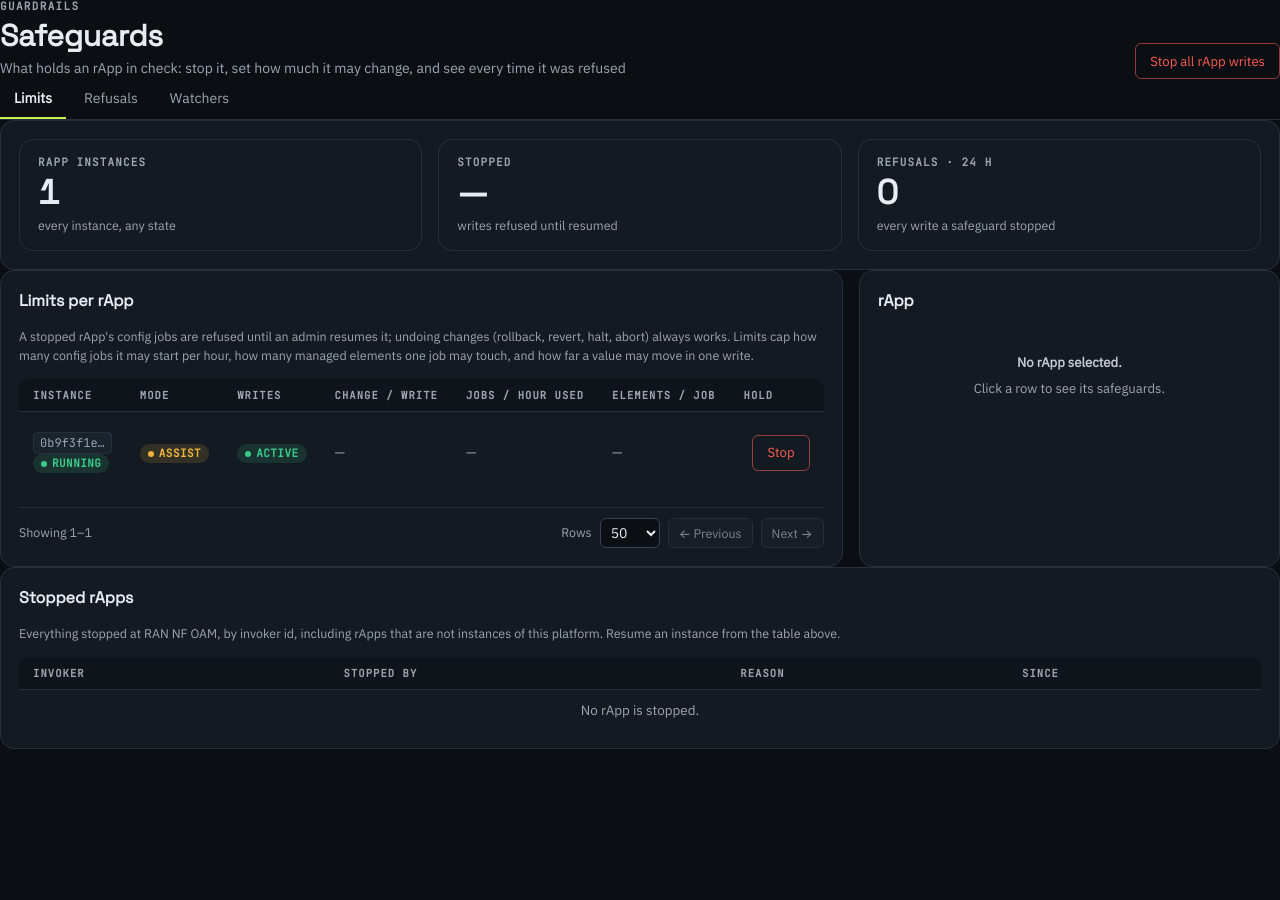
Test: stopping every rApp at once › cancelling the confirm stops nothing
Click the button "Stop all rApp writes" at (1208, 61), box [1135,43,1279,79]
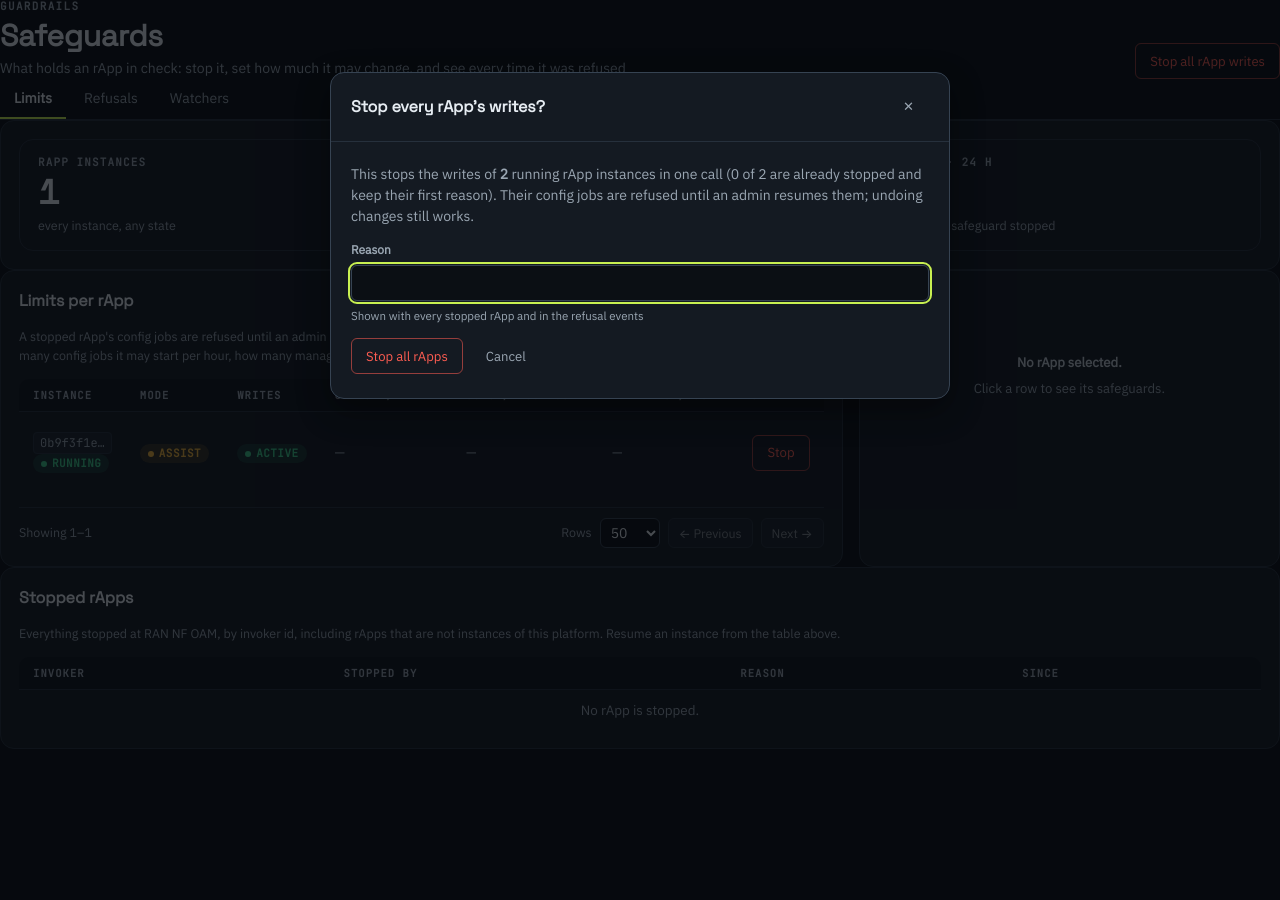
Click the button "Cancel" at (506, 356), box [471,338,541,374]
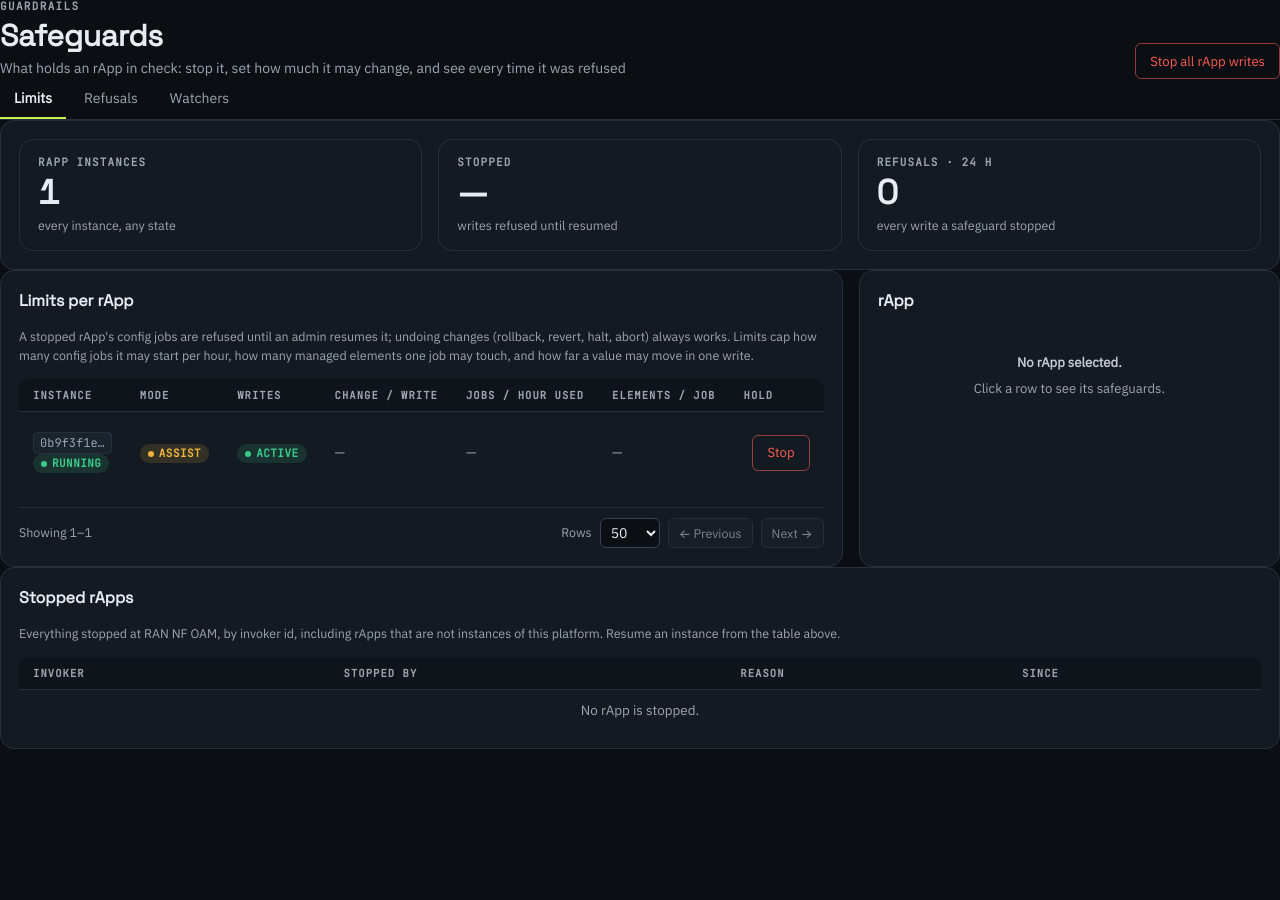
Now the dialog is gone
